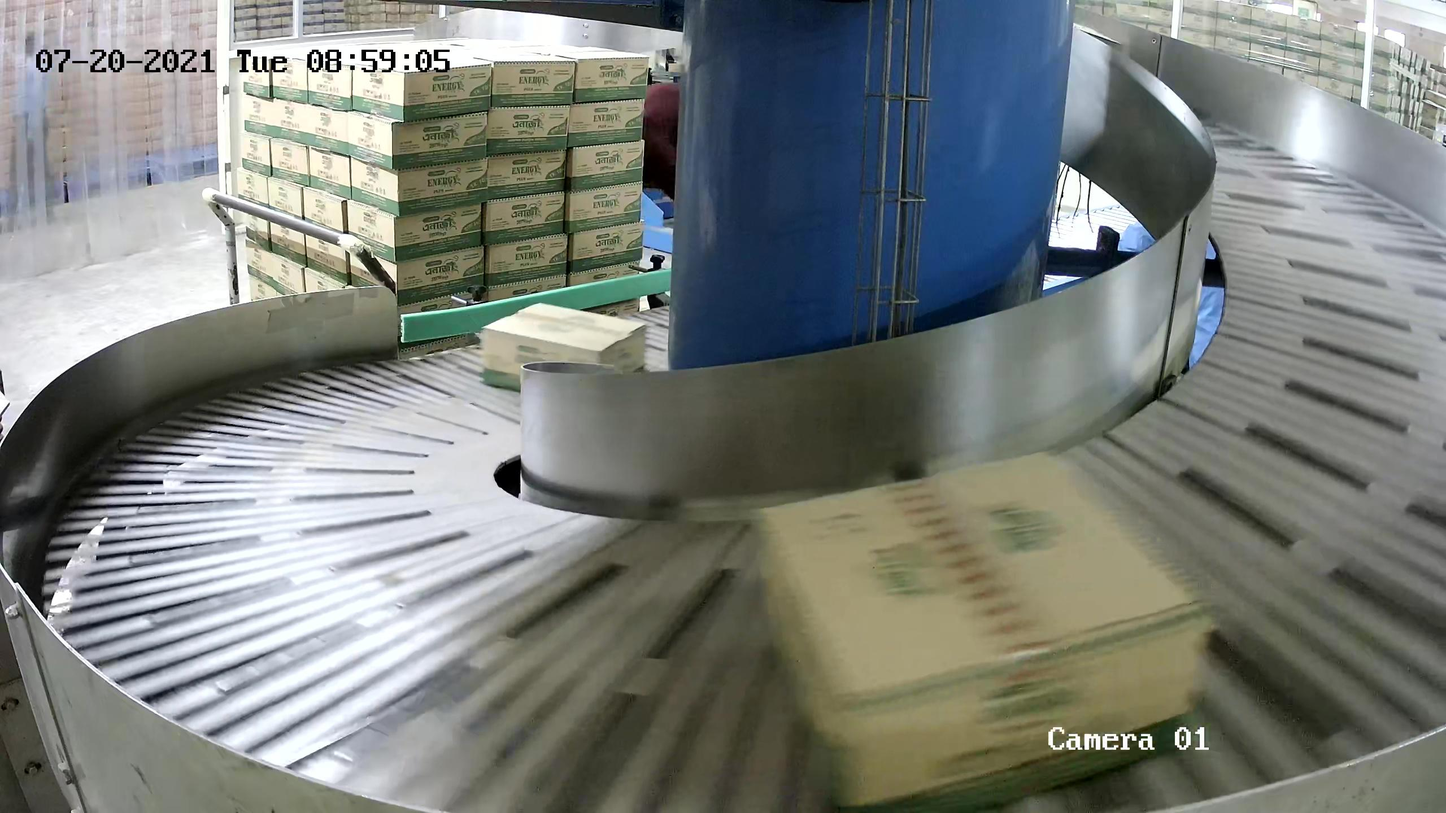Box: (756, 450, 1209, 813), (478, 302, 647, 404)
